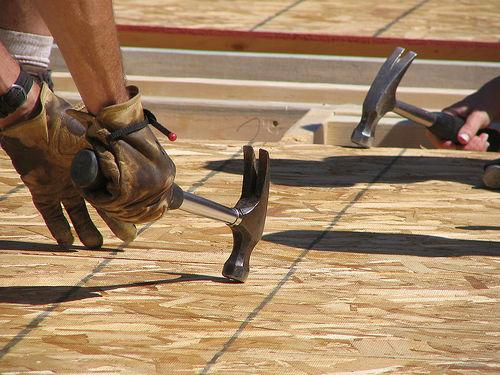hammer: (68, 142, 270, 281), (348, 45, 459, 148)
